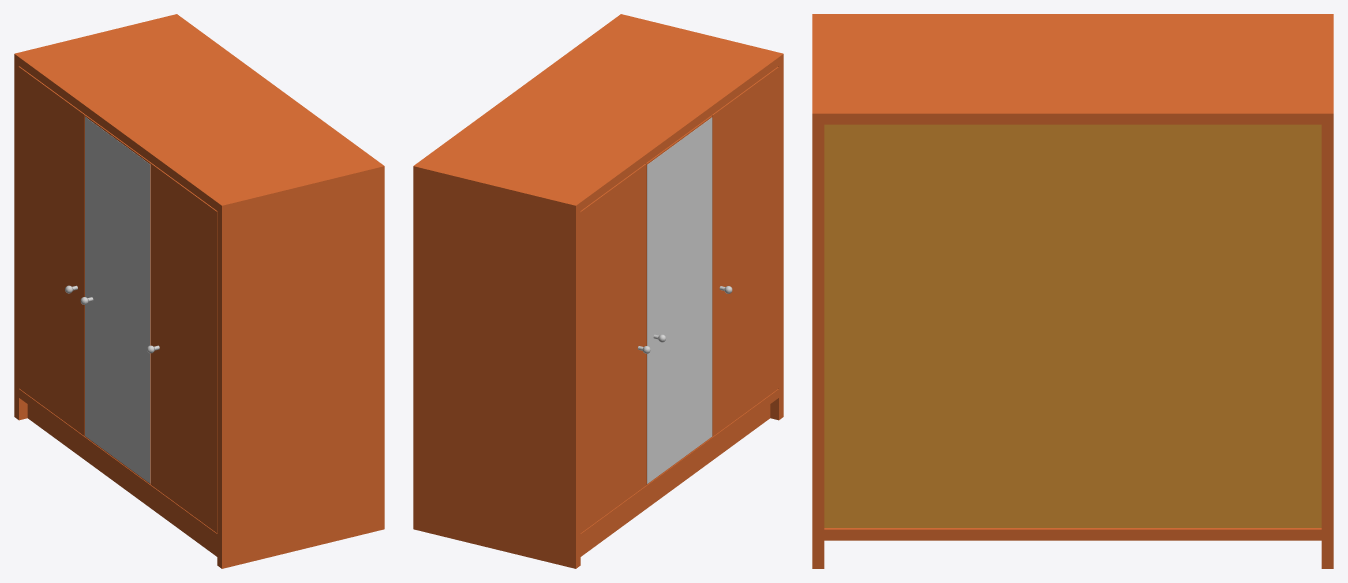
The model's file is Wardrobe_3_Doors_mirror_01.fbx.
The picture shows the model from 3 angles, left to right: view 1: azimuth 30°, elevation 25°; view 2: azimuth 150°, elevation 25°; view 3: azimuth 270°, elevation 25°; orthographic projection. The views are drawn at different scales.
Visible parts, largest first — view 1: Cube, Cube.004, Cube.001, Cube.005, Cube.003; view 2: Cube, Cube.001, Cube.004, Cube.005, Cube.003; view 3: Cube.002, Cube.
Boxes of the visible parts, x1=… form: Cube: x1=14, y1=14, x2=384, y2=568; Cube.004: x1=151, y1=163, x2=217, y2=532; Cube.001: x1=18, y1=66, x2=85, y2=435; Cube.005: x1=85, y1=117, x2=150, y2=483; Cube.003: x1=84, y1=115, x2=151, y2=484; Cube: x1=413, y1=14, x2=783, y2=568; Cube.001: x1=580, y1=164, x2=646, y2=533; Cube.004: x1=712, y1=67, x2=778, y2=436; Cube.005: x1=647, y1=117, x2=712, y2=483; Cube.003: x1=645, y1=115, x2=712, y2=484; Cube.002: x1=824, y1=124, x2=1321, y2=527; Cube: x1=812, y1=14, x2=1333, y2=568.
Size of the model in its own units: 107 by 213 by 221.
